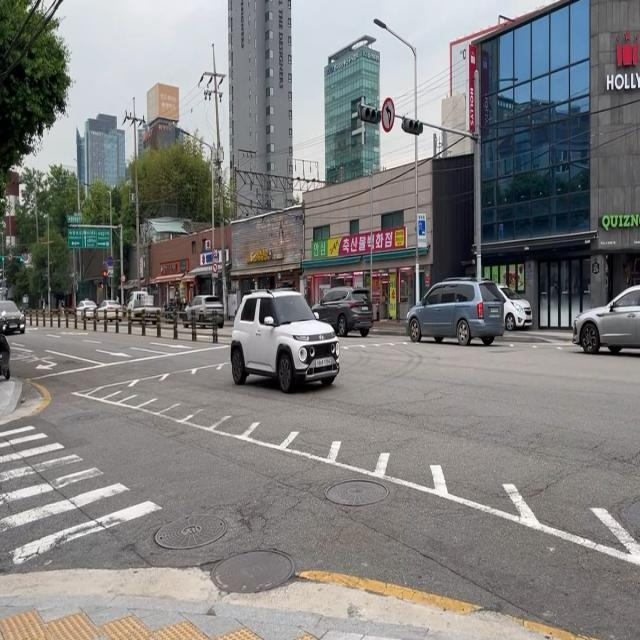building: (452, 0, 640, 331), (67, 72, 149, 254), (227, 0, 293, 220), (323, 34, 381, 185)
car: (230, 287, 340, 393), (404, 258, 506, 366), (572, 282, 640, 354)
